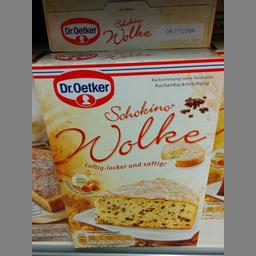cake: (33, 49, 224, 248)
